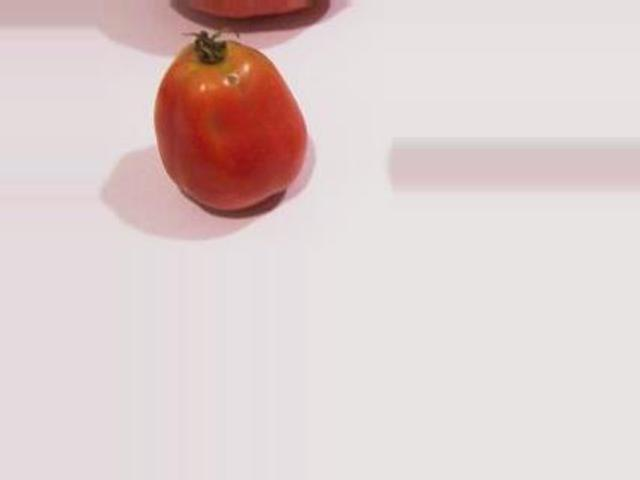tomato: (155, 38, 306, 206)
